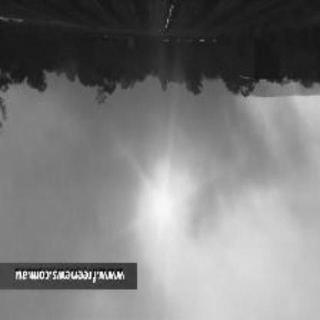other: (131, 172, 201, 250)
